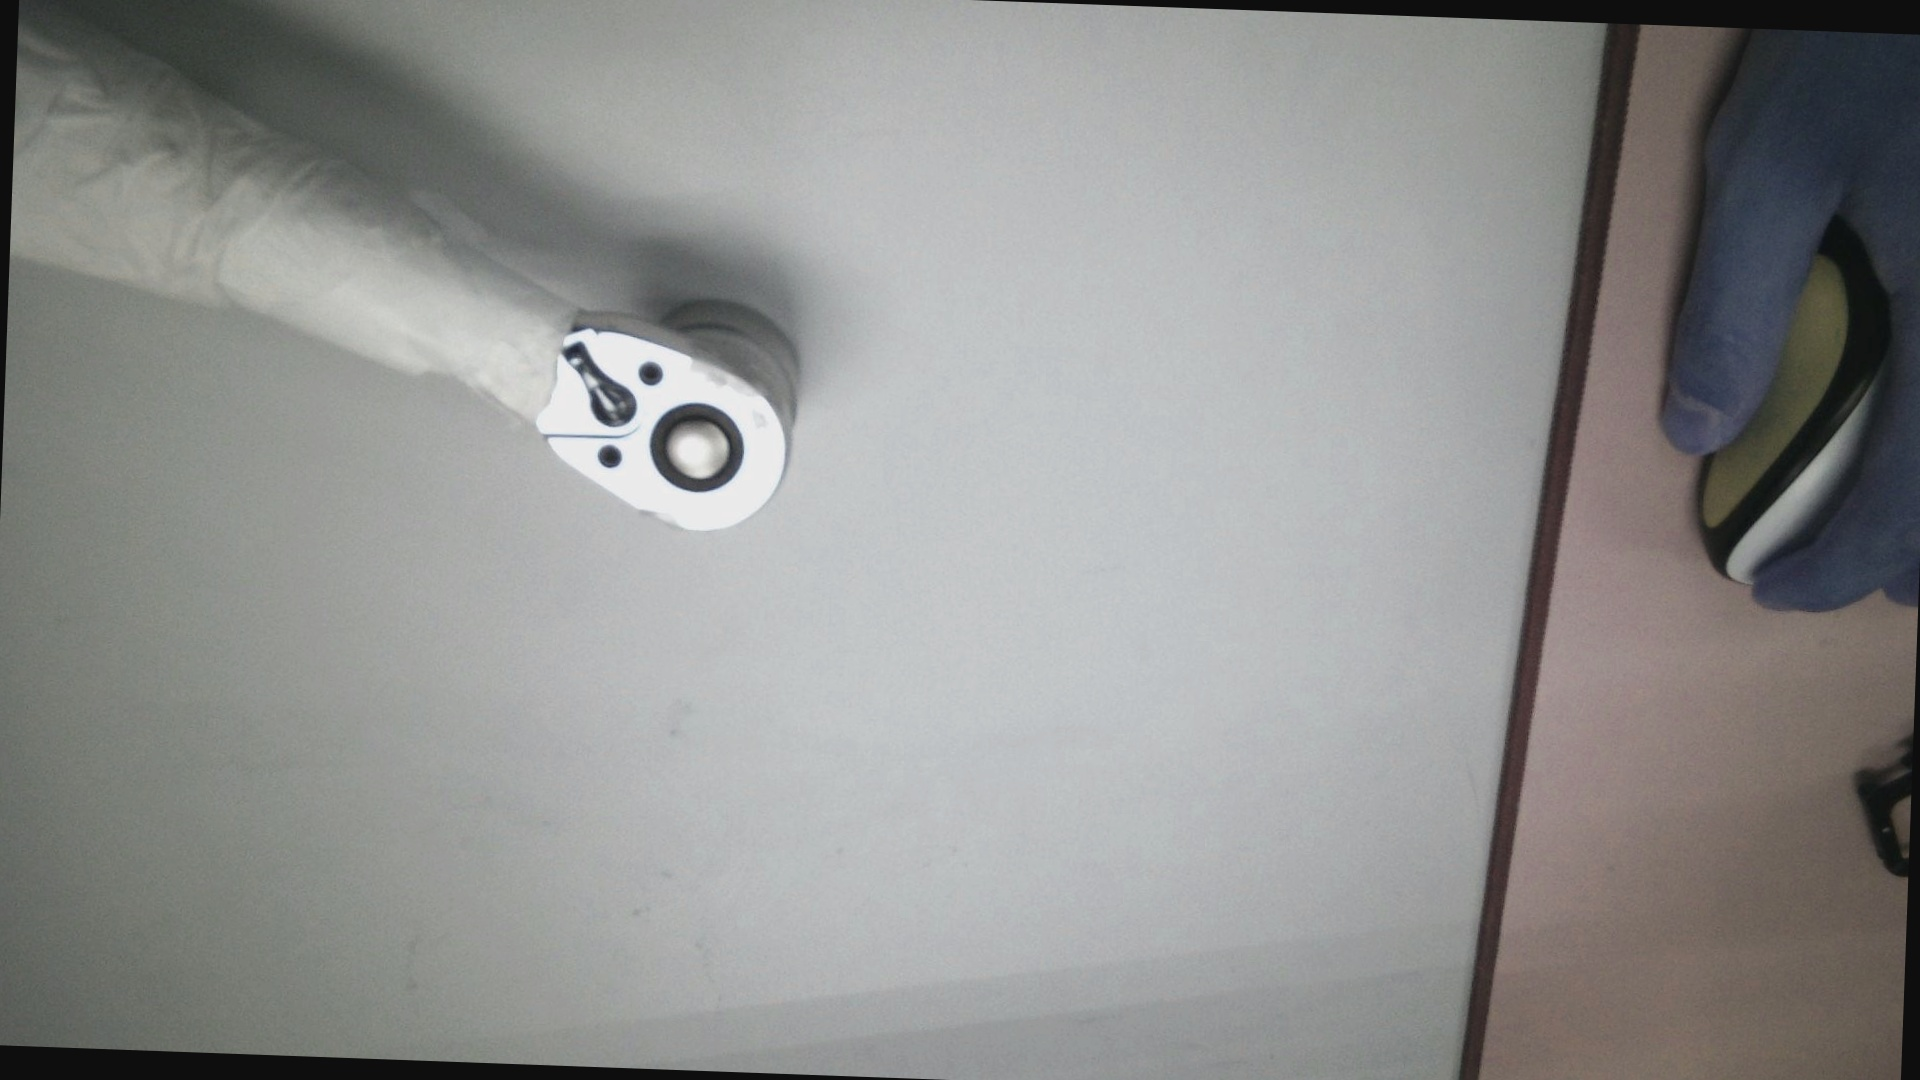wrench: (640, 396, 742, 496)
